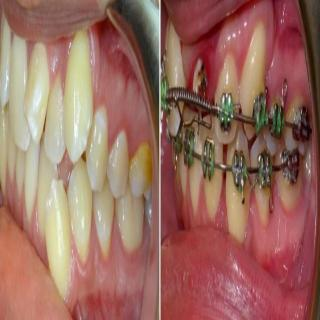maligned: (37, 176, 81, 304), (23, 47, 52, 139), (41, 80, 67, 162)
stains: (128, 146, 158, 194)
